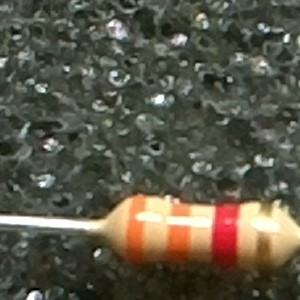gold_band: (252, 200, 277, 270)
orange_band: (160, 200, 196, 264), (123, 193, 150, 267)
red_band: (208, 199, 242, 270)
